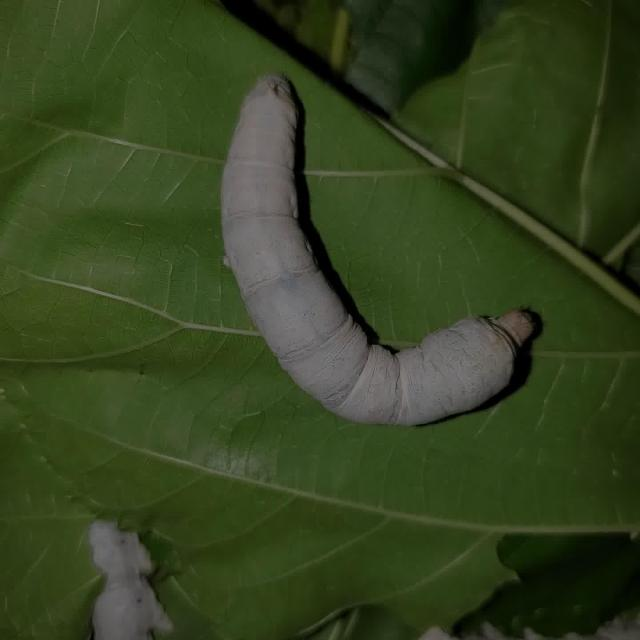Healthy: (204, 56, 539, 437)
